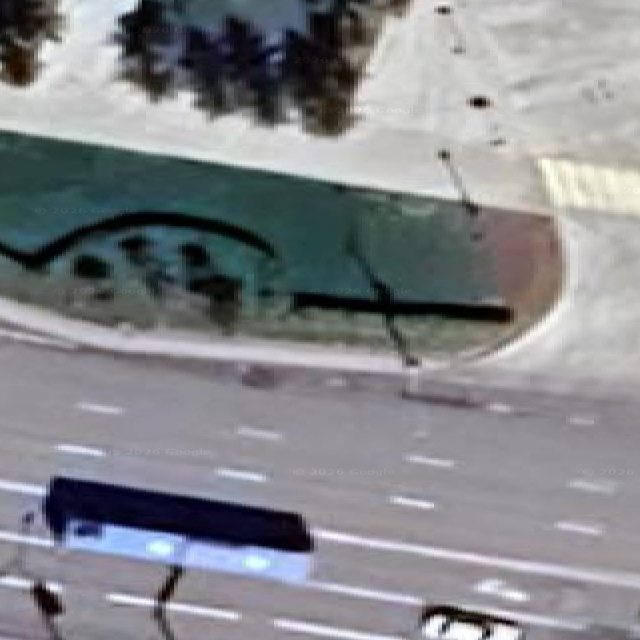car: (417, 605, 524, 639)
